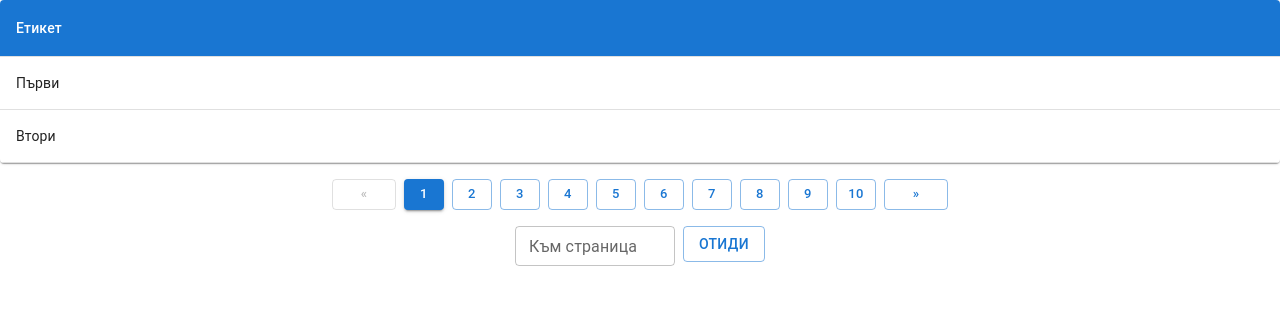
it: PaginatedTable › rejects an out-of-range jump target without notifying the parent
Type "99" into the number field labelled "Към страница". click: (595, 246)
box: [515,226,675,266]
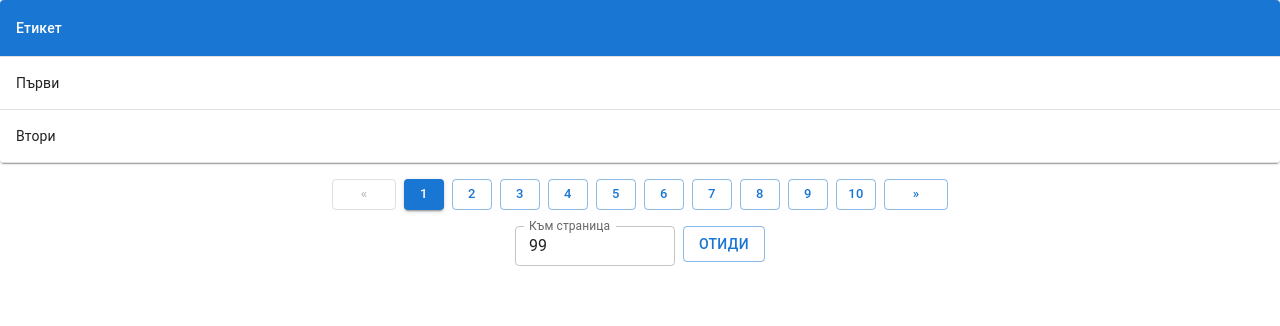
Click the button "Отиди". click: (724, 244)
box: [683,226,765,262]
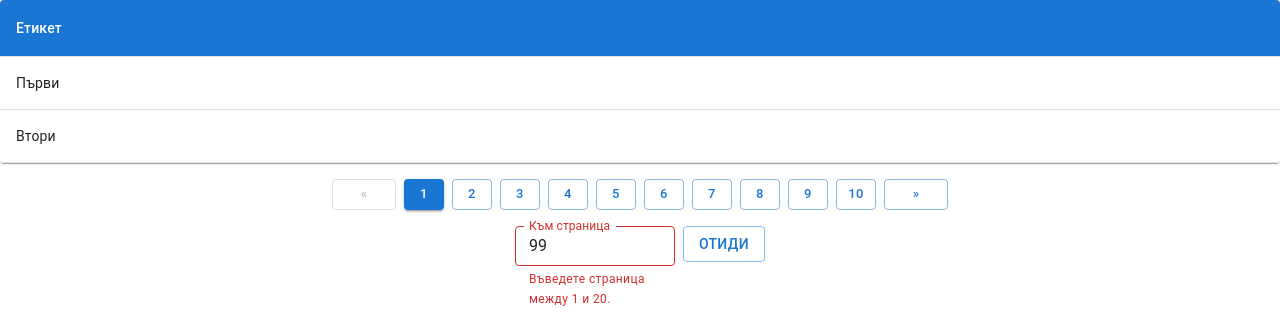
Expected: the text "Въведете страница между 1 и 20." is shown, [529,270,661,310]
